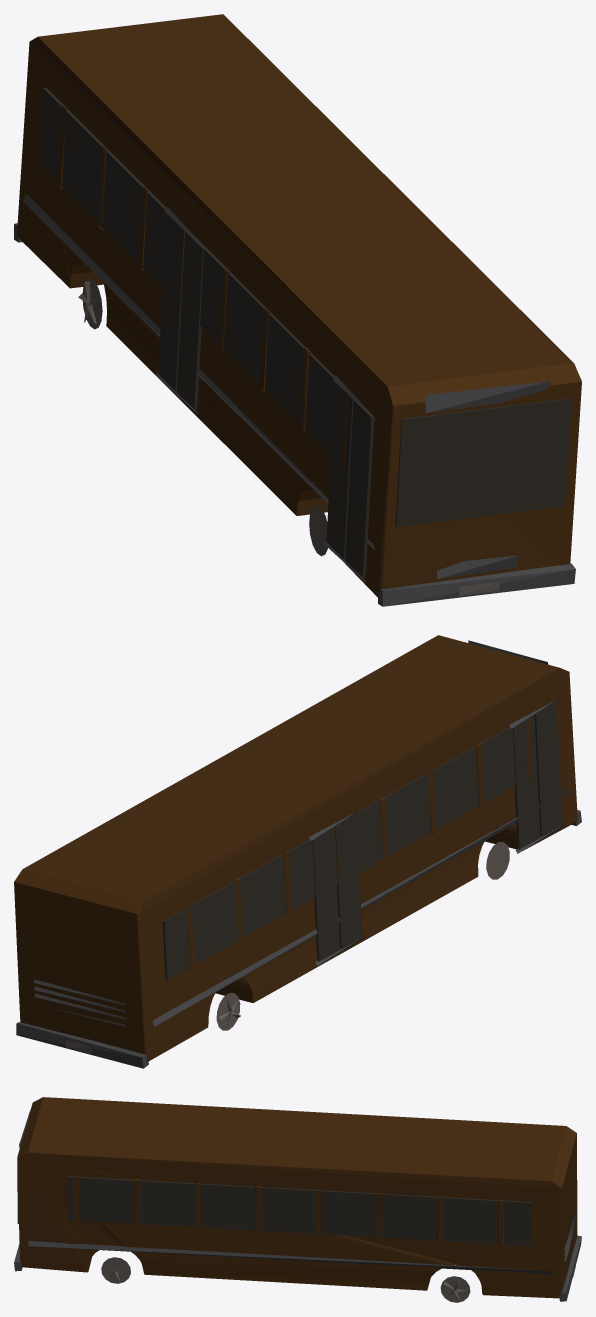
Rendered from bus-burnt-lod1.glb.
3 views of the same model, one above another, from view 1: azimuth 30°, elevation 25°; view 2: azimuth 150°, elevation 25°; view 3: azimuth 270°, elevation 25° (orthographic). The views are drawn at different scales.
Size of the model in its own units: 4.01 by 3.1 by 11.62.
